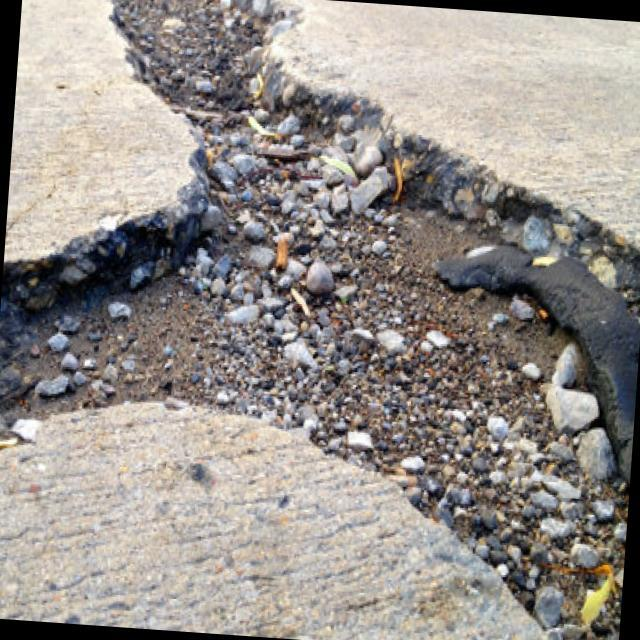Pothole: (145, 64, 640, 640)
